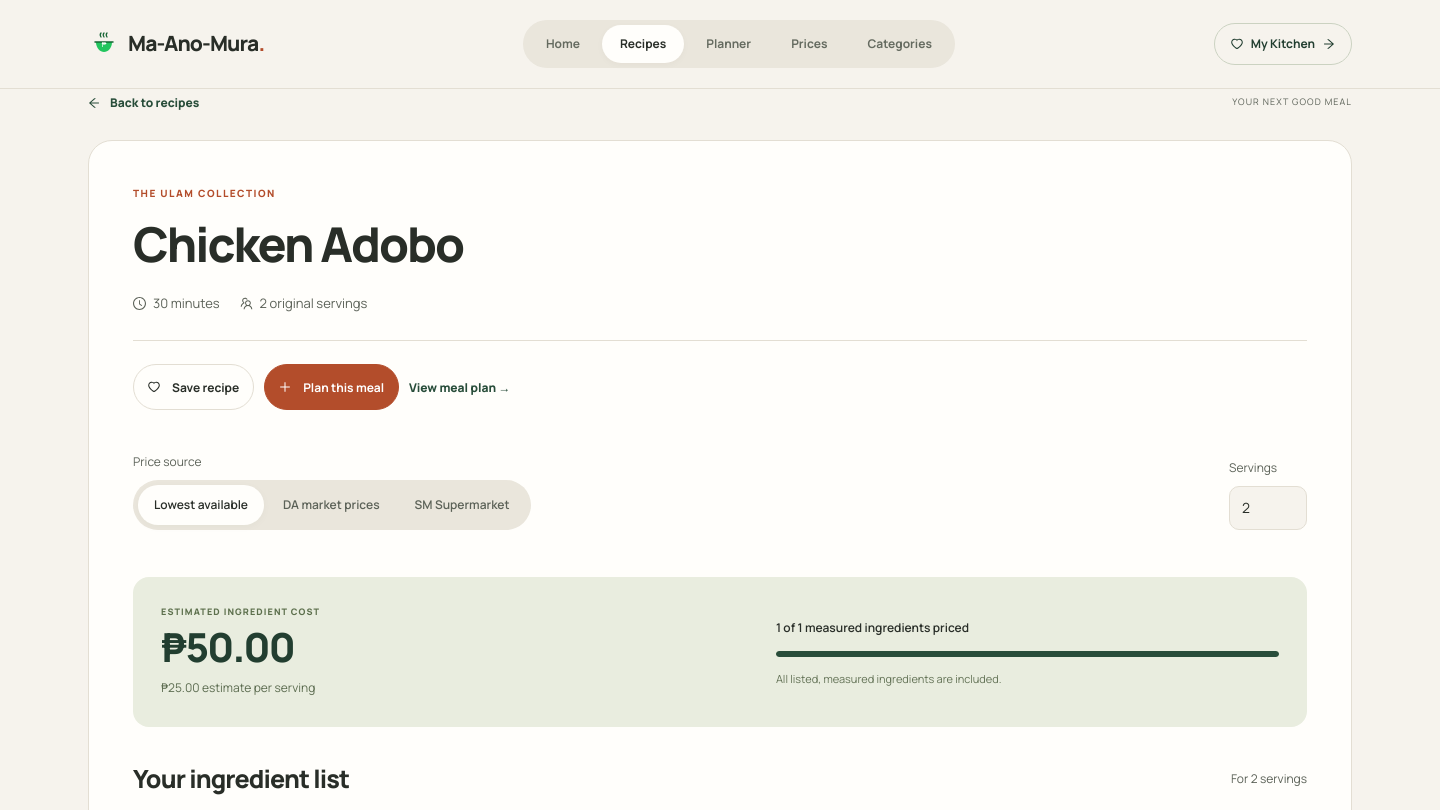
Test: source selection does not substitute another source for a missing quote
The width and height of the screenshot is (1440, 810).
Click the button "SM Supermarket".
click(462, 505)  # box x1=399 y1=485 x2=526 y2=525
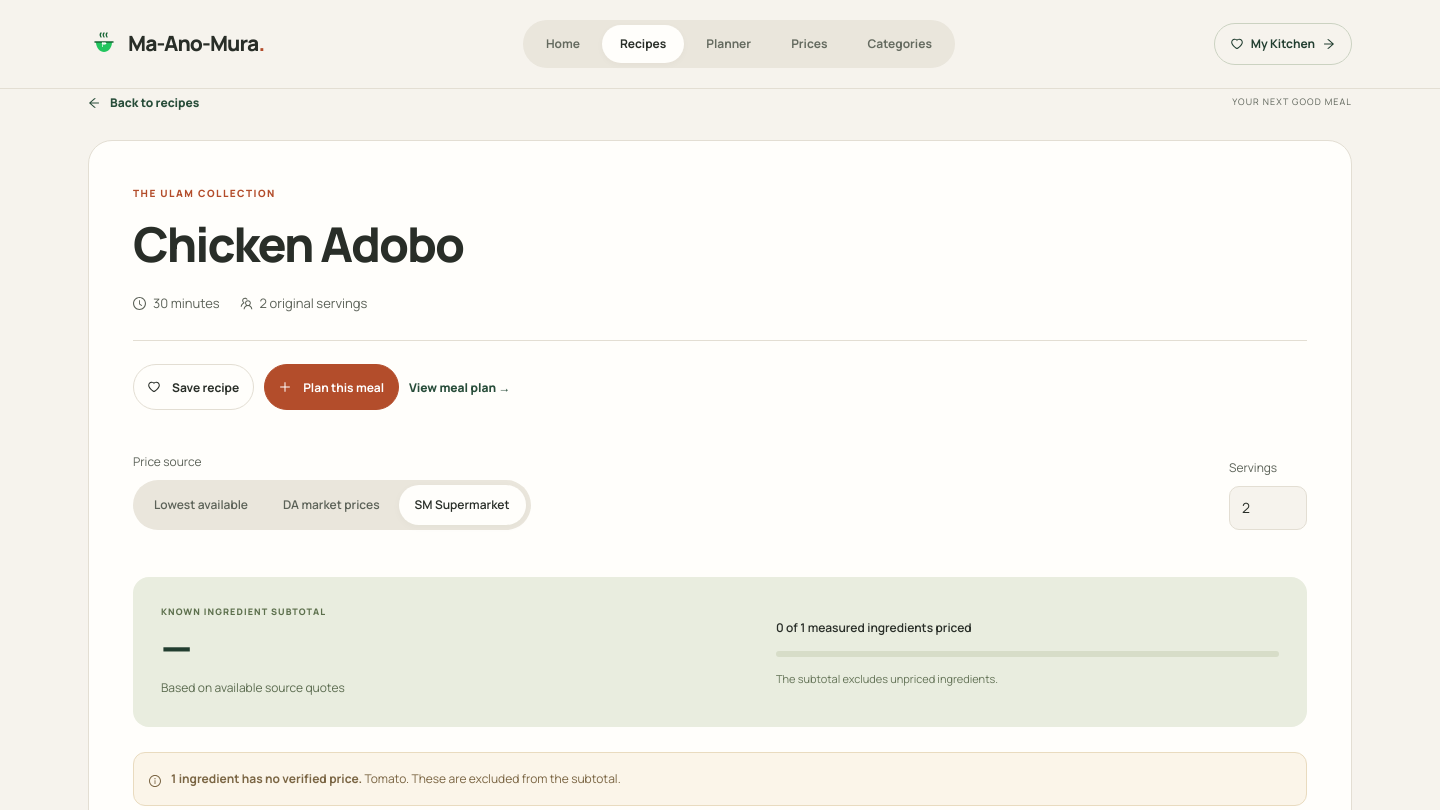
Now the text "KNOWN INGREDIENT SUBTOTAL" is shown, box x1=161 y1=604 x2=345 y2=619
Now the text "1 ingredient has no verified price." is shown, box x1=171 y1=770 x2=362 y2=787
